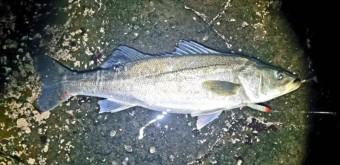fish: (34, 40, 301, 128)
